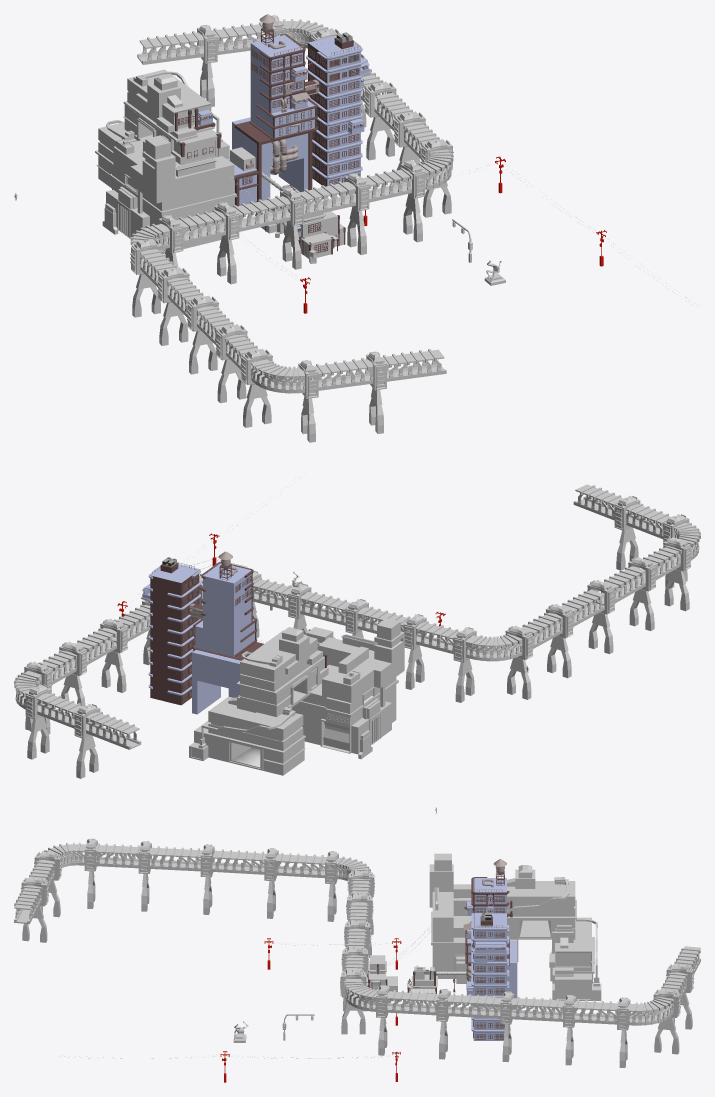
Rendered from SLOPWIJK.fbx.
The picture shows the model from 3 angles, top to bottom: view 1: azimuth 30°, elevation 25°; view 2: azimuth 150°, elevation 25°; view 3: azimuth 270°, elevation 25°; orthographic projection. The views are drawn at different scales.
Parts seen in each view (by area): view 1: Cube.225, Cube.007, Cube.054, Cube.227, Cube.240, Cube.260, Cube.261, Cube.181, Cube.258, Cube.235, Cube.255, Cube.236 (+29 smaller); view 2: Cube.225, Cube.007, Cube.226, Cube.054, Cube.227, Cube.251, Cube.240, Cube.243, Cube.235, Cube.239, Cube.267, Cube.247 (+26 smaller); view 3: Cube.225, Cube.227, Cube.226, Cube.054, Cube.007, Cube.228, Cube.245, Cube.250, Cube.265, Cube.229, Cube.241, Cube.248 (+27 smaller).
Boxes of the visible parts, x1,y1,x2,y2 form: Cube.225: [102, 135, 236, 254]; Cube.007: [227, 35, 314, 205]; Cube.054: [306, 34, 362, 186]; Cube.227: [123, 69, 229, 165]; Cube.240: [137, 31, 203, 64]; Cube.260: [382, 349, 446, 381]; Cube.261: [251, 359, 304, 393]; Cube.181: [285, 201, 343, 258]; Cube.258: [315, 357, 373, 390]; Cube.235: [288, 181, 355, 217]; Cube.255: [233, 195, 290, 231]; Cube.236: [344, 173, 369, 255]; Cube.225: [292, 618, 404, 759]; Cube.007: [192, 563, 254, 714]; Cube.226: [189, 696, 305, 775]; Cube.054: [148, 564, 200, 705]; Cube.227: [236, 627, 328, 717]; Cube.251: [466, 633, 522, 661]; Cube.240: [86, 711, 141, 749]; Cube.243: [25, 684, 51, 759]; Cube.235: [300, 592, 361, 625]; Cube.239: [74, 703, 100, 778]; Cube.267: [587, 580, 615, 653]; Cube.247: [100, 618, 127, 692]; Cube.225: [429, 853, 518, 983]; Cube.227: [507, 865, 576, 939]; Cube.226: [549, 917, 601, 1000]; Cube.054: [471, 913, 509, 1040]; Cube.007: [467, 878, 517, 1009]; Cube.228: [448, 993, 501, 1018]; Cube.245: [511, 996, 564, 1021]; Cube.250: [212, 849, 266, 874]; Cube.265: [150, 846, 202, 871]; Cube.229: [387, 990, 438, 1015]; Cube.241: [628, 996, 673, 1025]; Cube.248: [276, 852, 327, 878].
Bounding box in the file's own units: 11474 × 4208 × 17031.
